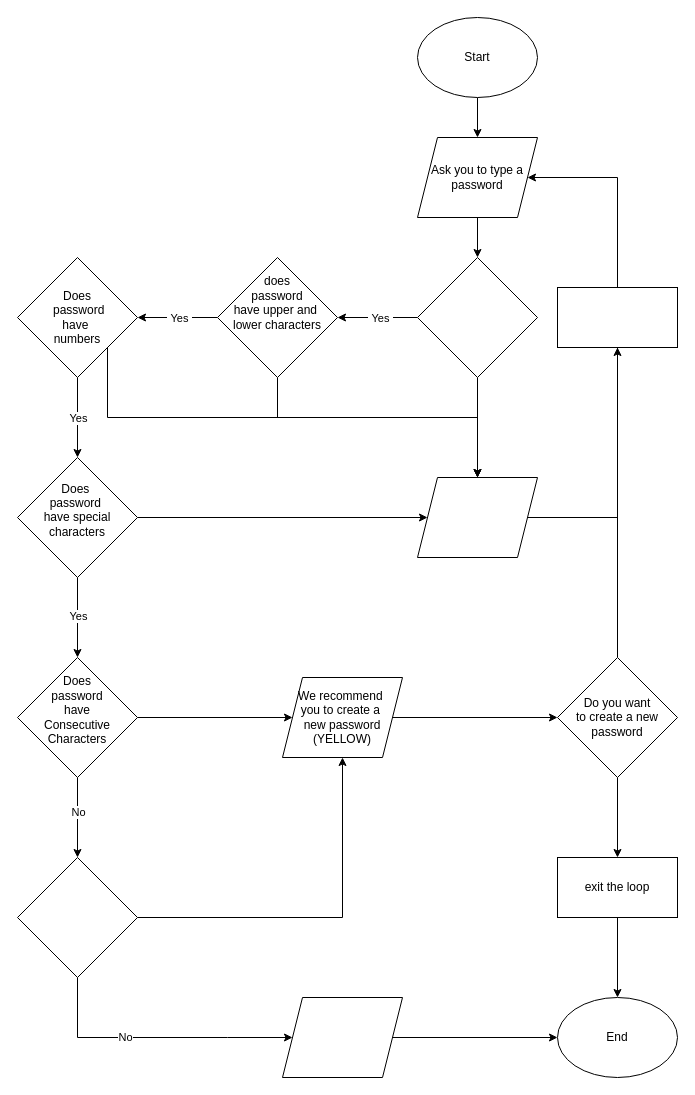
The diagram is 695 pixels wide and 1095 high, and some of its shapes have lost their labels. The box of each missing label's shape, as (x1, y1, x2, y2) in pixels:
Create a new password (RED): (416, 476, 538, 558)
Does password have Consecutive Numbers: (16, 856, 138, 978)
Go back to loop: (556, 286, 678, 348)
Great you have created a secure password (GREEN): (282, 996, 402, 1078)
Is password following the lenght requirment: (416, 256, 538, 378)
